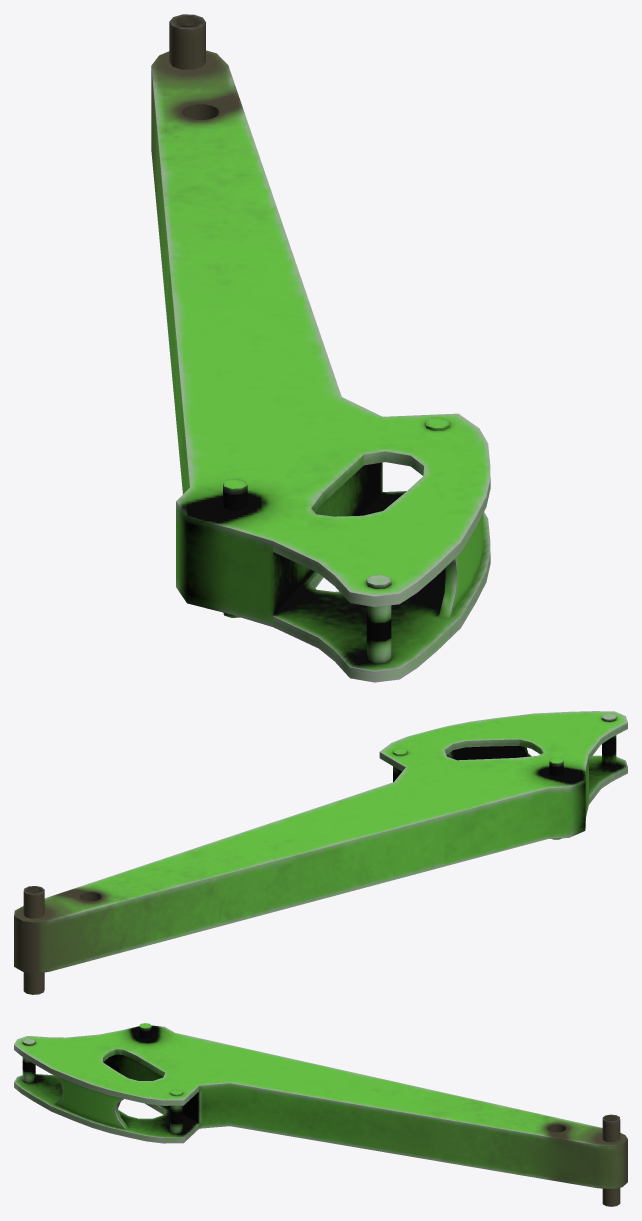
Rendered from stick.obj.
The picture shows the model from 3 angles, top to bottom: view 1: azimuth 30°, elevation 25°; view 2: azimuth 150°, elevation 25°; view 3: azimuth 270°, elevation 25°; orthographic projection. The views are drawn at different scales.
Parts seen in each view (by area): view 1: Arm_top.001; view 2: Arm_top.001; view 3: Arm_top.001.
Part boxes in pixels (x1=…): Arm_top.001: x1=151, y1=14, x2=490, y2=682; Arm_top.001: x1=14, y1=711, x2=627, y2=994; Arm_top.001: x1=14, y1=1023, x2=627, y2=1206.
Bounding box in the file's own units: 0.7056 × 0.2293 × 1.51.
Materials: 1 (1 with a texture image).
